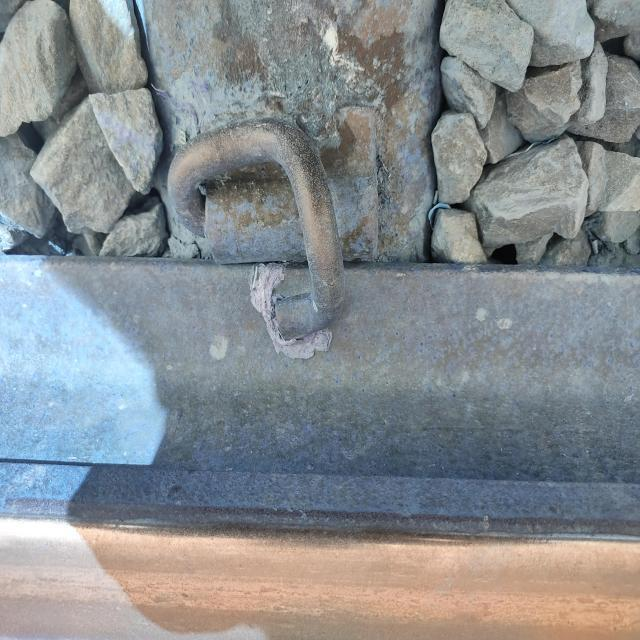Good Fasteners: (161, 118, 347, 359)
